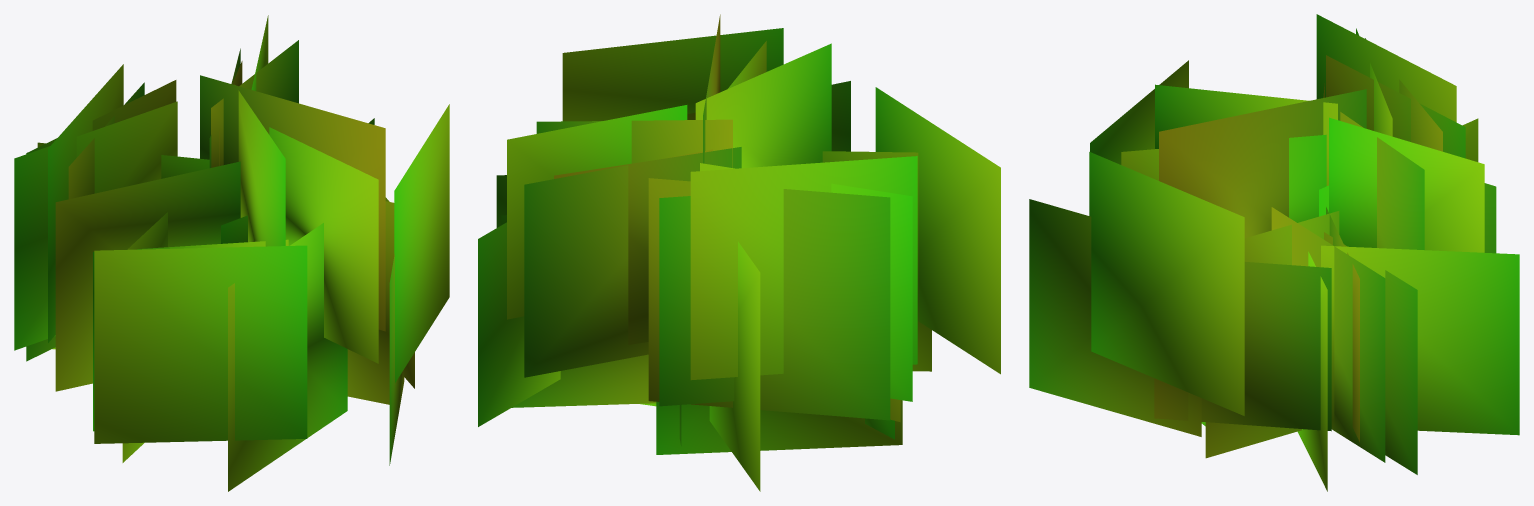
Rendered from SM_Bush_A.fbx.
The picture shows the model from 3 angles, left to right: view 1: azimuth 30°, elevation 25°; view 2: azimuth 150°, elevation 25°; view 3: azimuth 270°, elevation 25°; orthographic projection. The views are drawn at different scales.
Parts seen in each view (by area): view 1: SM_Bush_A; view 2: SM_Bush_A; view 3: SM_Bush_A.
Part boxes in pixels (x1,y1,x2,y2): SM_Bush_A: (14,15,449,491); SM_Bush_A: (478,14,1000,491); SM_Bush_A: (1029,14,1519,491).
Size of the model in its own units: 267 by 289 by 211.
